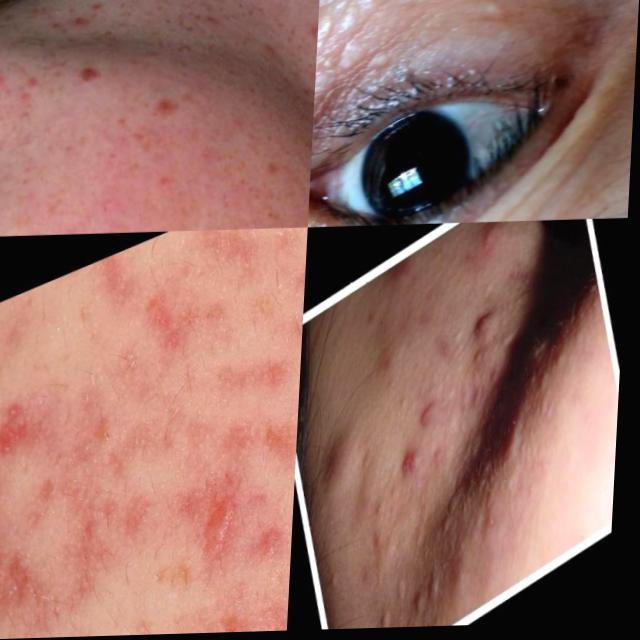6: (166, 464, 274, 590)
blackheads: (0, 497, 80, 640), (55, 498, 149, 606), (316, 16, 412, 100), (0, 380, 63, 476), (136, 277, 201, 347), (397, 438, 439, 494)
dark spot: (383, 600, 406, 630), (417, 586, 435, 621), (337, 613, 360, 632)
pustules: (467, 296, 510, 359), (323, 430, 360, 501)
